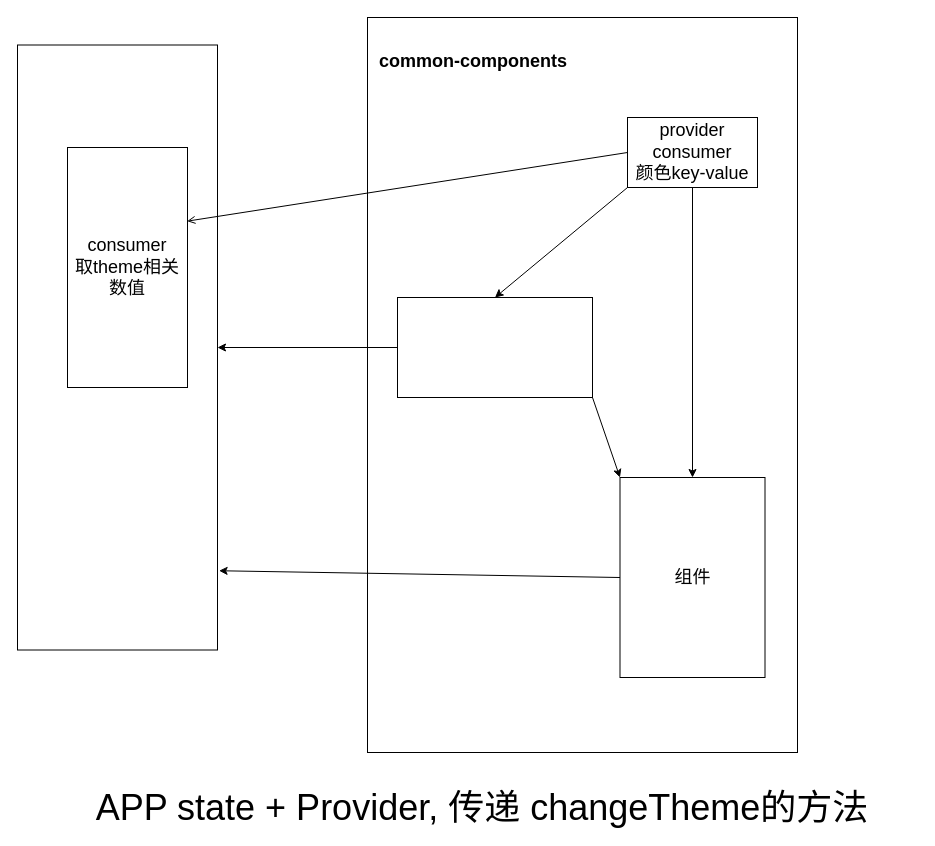
The diagram is 935 pixels wide and 846 high, and some of its shapes have lost their labels. The shapes that lost their labels are listed below. From the top down, each one's box as (x1, y1, x2, y2) in pixels, then its label:
(16, 44, 218, 650): crm-rn
(396, 296, 592, 398): 基础RN组件
